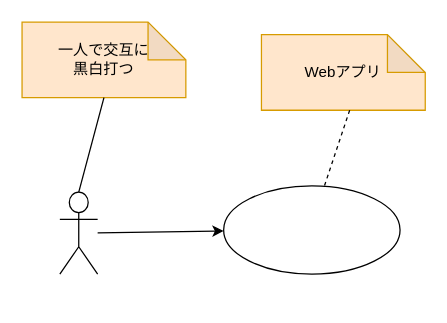
The diagram is 447 pixels wide and 323 high, and some of its shapes have lost their labels. The box of each missing label's shape, as (x1, y1, x2, y2) in pixels:
プレイヤー: (59, 191, 98, 274)
リバーシ アプリケーション: (222, 185, 400, 274)
